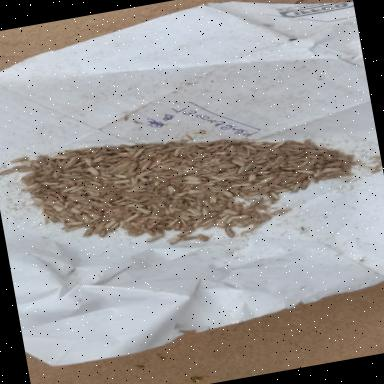pbw: (293, 166, 317, 178), (181, 173, 204, 184), (238, 183, 266, 192), (80, 226, 98, 239), (225, 174, 245, 185), (124, 212, 146, 222), (19, 182, 41, 192), (143, 220, 160, 232), (62, 156, 79, 168), (222, 208, 242, 218), (144, 234, 164, 244), (230, 182, 253, 190), (180, 210, 198, 220), (134, 206, 152, 216), (90, 155, 110, 164), (199, 217, 217, 227), (148, 159, 164, 170), (320, 166, 342, 174), (126, 188, 148, 196), (126, 162, 140, 174), (63, 220, 84, 228), (187, 207, 202, 218), (215, 220, 230, 231), (64, 225, 84, 233), (210, 174, 226, 184), (260, 162, 276, 172), (40, 180, 60, 188), (216, 162, 236, 170), (258, 176, 278, 184), (116, 184, 136, 192), (87, 166, 100, 178), (207, 193, 220, 205), (231, 214, 250, 222), (230, 158, 245, 168), (84, 188, 99, 198), (102, 220, 117, 230), (9, 157, 30, 164), (193, 156, 214, 163), (139, 169, 155, 178), (224, 228, 236, 240), (270, 141, 286, 150), (279, 166, 297, 174), (68, 186, 86, 194), (124, 202, 142, 210), (266, 190, 279, 201), (80, 213, 93, 224), (68, 206, 82, 216), (136, 174, 150, 184), (60, 186, 80, 193), (217, 214, 231, 224), (168, 171, 188, 178), (52, 154, 69, 162), (51, 169, 63, 180), (290, 183, 302, 194), (50, 204, 63, 214), (0, 169, 16, 177), (64, 166, 80, 174), (176, 230, 192, 238), (188, 188, 204, 196), (186, 179, 202, 187), (248, 198, 264, 206), (168, 236, 180, 246), (32, 195, 44, 205), (222, 190, 234, 200), (165, 220, 180, 228), (190, 219, 202, 229), (140, 161, 152, 171), (132, 149, 145, 158), (202, 223, 216, 231), (19, 159, 33, 167), (110, 198, 126, 205), (88, 180, 102, 188), (200, 207, 210, 218), (84, 157, 94, 168), (197, 234, 208, 244), (246, 173, 257, 183), (307, 174, 318, 184), (242, 208, 260, 214), (113, 179, 131, 185), (232, 220, 244, 229), (180, 236, 198, 242), (244, 144, 257, 152), (17, 167, 34, 173), (166, 185, 176, 195), (254, 170, 270, 176), (174, 192, 190, 198), (112, 174, 128, 180), (12, 164, 27, 170), (172, 149, 182, 158), (130, 177, 140, 186), (236, 166, 246, 174), (224, 217, 234, 225), (255, 160, 268, 166), (98, 230, 106, 239), (123, 146, 134, 152)
